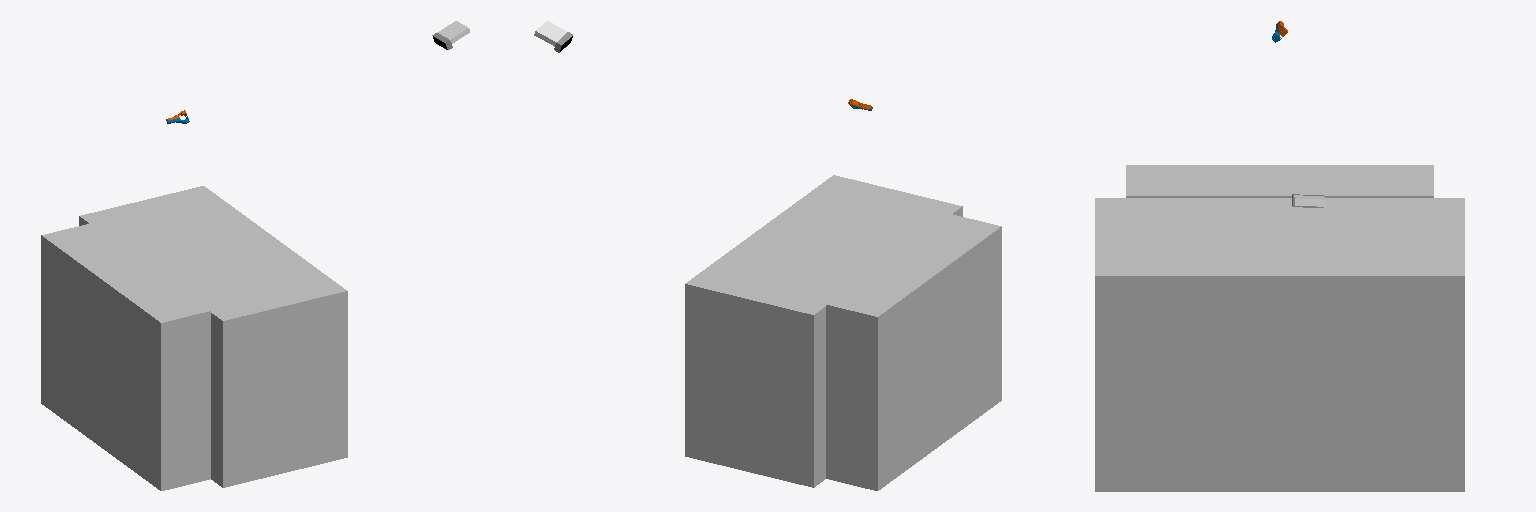
URDF robot description (panda):
<?xml version="1.0" ?>
<robot name="panda">
  <link name="world">
    <inertial>
      <mass value="1"/>
      <inertia ixx="0.04" ixy="0.0" ixz="0.0" iyy="0.04" iyz="0.0" izz="0.2"/>
    </inertial>
  </link>
  <link name="table">
    <visual>
      <geometry>
        <mesh filename="package://sapien_simulator/meshes/table/visual/table.dae"/>
      </geometry>
    </visual>
    <collision>
      <geometry>
        <mesh filename="package://sapien_simulator/meshes/table/collision/table.obj"/>
      </geometry>
    </collision>
  </link>
  <joint name="world_joint" type="fixed">
    <parent link="world"/>
    <child link="panda_link0"/>
    <origin xyz="-0.43 0.0 0.01" rpy="0.0 0.0 0.0"/>
  </joint>
  <joint name="table_joint" type="fixed">
    <parent link="world"/>
    <child link="table"/>
    <origin xyz="0.0 0.0 -0.39" rpy="0.0 0.0 0.0"/>
  </joint>

  <link name="panda_link0">
    <visual>
      <geometry>
        <mesh filename="package://sapien_simulator/meshes/visual/link0.dae"/>
      </geometry>
    </visual>
    <collision>
      <geometry>
        <mesh filename="package://sapien_simulator/meshes/collision/link0.stl"/>
      </geometry>
    </collision>
  </link>
  <link name="panda_link1">
    <visual>
      <geometry>
        <mesh filename="package://sapien_simulator/meshes/visual/link1.dae"/>
      </geometry>
    </visual>
    <collision>
      <geometry>
        <mesh filename="package://sapien_simulator/meshes/collision/link1.stl"/>
      </geometry>
    </collision>
  </link>
  <joint name="panda_joint1" type="revolute">
    <safety_controller k_position="100.0" k_velocity="40.0" soft_lower_limit="-2.8973" soft_upper_limit="2.8973"/>
    <origin rpy="0 0 0" xyz="0 0 0.333"/>
    <parent link="panda_link0"/>
    <child link="panda_link1"/>
    <axis xyz="0 0 1"/>
    <limit effort="87" lower="-2.8973" upper="2.8973" velocity="2.1750"/>
  </joint>
  <link name="panda_link2">
    <visual>
      <geometry>
        <mesh filename="package://sapien_simulator/meshes/visual/link2.dae"/>
      </geometry>
    </visual>
    <collision>
      <geometry>
        <mesh filename="package://sapien_simulator/meshes/collision/link2.stl"/>
      </geometry>
    </collision>
  </link>
  <joint name="panda_joint2" type="revolute">
    <safety_controller k_position="100.0" k_velocity="40.0" soft_lower_limit="-1.7628" soft_upper_limit="1.7628"/>
    <origin rpy="-1.5707963267948966 0 0" xyz="0 0 0"/>
    <parent link="panda_link1"/>
    <child link="panda_link2"/>
    <axis xyz="0 0 1"/>
    <limit effort="87" lower="-1.7628" upper="1.7628" velocity="2.1750"/>
  </joint>
  <link name="panda_link3">
    <visual>
      <geometry>
        <mesh filename="package://sapien_simulator/meshes/visual/link3.dae"/>
      </geometry>
    </visual>
    <collision>
      <geometry>
        <mesh filename="package://sapien_simulator/meshes/collision/link3.stl"/>
      </geometry>
    </collision>
  </link>
  <joint name="panda_joint3" type="revolute">
    <safety_controller k_position="100.0" k_velocity="40.0" soft_lower_limit="-2.8973" soft_upper_limit="2.8973"/>
    <origin rpy="1.5707963267948966 0 0" xyz="0 -0.316 0"/>
    <parent link="panda_link2"/>
    <child link="panda_link3"/>
    <axis xyz="0 0 1"/>
    <limit effort="87" lower="-2.8973" upper="2.8973" velocity="2.1750"/>
  </joint>
  <link name="panda_link4">
    <visual>
      <geometry>
        <mesh filename="package://sapien_simulator/meshes/visual/link4.dae"/>
      </geometry>
    </visual>
    <collision>
      <geometry>
        <mesh filename="package://sapien_simulator/meshes/collision/link4.stl"/>
      </geometry>
    </collision>
  </link>
  <joint name="panda_joint4" type="revolute">
    <safety_controller k_position="100.0" k_velocity="40.0" soft_lower_limit="-3.0718" soft_upper_limit="-0.0698"/>
    <origin rpy="1.5707963267948966 0 0" xyz="0.0825 0 0"/>
    <parent link="panda_link3"/>
    <child link="panda_link4"/>
    <axis xyz="0 0 1"/>
    <limit effort="87" lower="-3.0718" upper="-0.0698" velocity="2.1750"/>
  </joint>
  <link name="panda_link5">
    <visual>
      <geometry>
        <mesh filename="package://sapien_simulator/meshes/visual/link5.dae"/>
      </geometry>
    </visual>
    <collision>
      <geometry>
        <mesh filename="package://sapien_simulator/meshes/collision/link5.stl"/>
      </geometry>
    </collision>
  </link>
  <joint name="panda_joint5" type="revolute">
    <safety_controller k_position="100.0" k_velocity="40.0" soft_lower_limit="-2.8973" soft_upper_limit="2.8973"/>
    <origin rpy="-1.5707963267948966 0 0" xyz="-0.0825 0.384 0"/>
    <parent link="panda_link4"/>
    <child link="panda_link5"/>
    <axis xyz="0 0 1"/>
    <limit effort="12" lower="-2.8973" upper="2.8973" velocity="2.6100"/>
  </joint>
  <link name="panda_link6">
    <visual>
      <geometry>
        <mesh filename="package://sapien_simulator/meshes/visual/link6.dae"/>
      </geometry>
    </visual>
    <collision>
      <geometry>
        <mesh filename="package://sapien_simulator/meshes/collision/link6.stl"/>
      </geometry>
    </collision>
  </link>
  <joint name="panda_joint6" type="revolute">
    <safety_controller k_position="100.0" k_velocity="40.0" soft_lower_limit="-0.0175" soft_upper_limit="3.7525"/>
    <origin rpy="1.5707963267948966 0 0" xyz="0 0 0"/>
    <parent link="panda_link5"/>
    <child link="panda_link6"/>
    <axis xyz="0 0 1"/>
    <limit effort="12" lower="-0.0175" upper="3.7525" velocity="2.6100"/>
  </joint>
  <link name="panda_link7">
    <visual>
      <geometry>
        <mesh filename="package://sapien_simulator/meshes/visual/link7.dae"/>
      </geometry>
    </visual>
    <collision>
      <geometry>
        <mesh filename="package://sapien_simulator/meshes/collision/link7.stl"/>
      </geometry>
    </collision>
  </link>
  <joint name="panda_joint7" type="revolute">
    <safety_controller k_position="100.0" k_velocity="40.0" soft_lower_limit="-2.8973" soft_upper_limit="2.8973"/>
    <origin rpy="1.5707963267948966 0 0" xyz="0.088 0 0"/>
    <parent link="panda_link6"/>
    <child link="panda_link7"/>
    <axis xyz="0 0 1"/>
    <limit effort="12" lower="-2.8973" upper="2.8973" velocity="2.6100"/>
  </joint>
  <link name="panda_link8"/>
  <joint name="panda_joint8" type="fixed">
    <origin rpy="0 0 0" xyz="0 0 0.107"/>
    <parent link="panda_link7"/>
    <child link="panda_link8"/>
    <axis xyz="0 0 0"/>
  </joint>
  <joint name="panda_hand_joint" type="fixed">
    <parent link="panda_link8"/>
    <child link="panda_hand"/>
    <origin rpy="0 0 -0.7853981633974483" xyz="0 0 0"/>
  </joint>
  <link name="panda_hand">
    <visual>
      <geometry>
        <mesh filename="package://sapien_simulator/meshes/visual/hand.dae"/>
      </geometry>
    </visual>
    <collision>
      <geometry>
        <mesh filename="package://sapien_simulator/meshes/collision/hand.stl"/>
      </geometry>
    </collision>
  </link>
  <link name="panda_leftfinger">
    <visual>
      <geometry>
        <mesh filename="package://sapien_simulator/meshes/visual/finger.dae"/>
      </geometry>
    </visual>
    <collision>
      <geometry>
        <mesh filename="package://sapien_simulator/meshes/visual/finger.dae"/>
      </geometry>
    </collision>
  </link>
  <link name="panda_rightfinger">
    <visual>
      <origin rpy="0 0 3.141592653589793" xyz="0 0 0"/>
      <geometry>
        <mesh filename="package://sapien_simulator/meshes/visual/finger.dae"/>
      </geometry>
    </visual>
    <collision>
      <origin rpy="0 0 3.141592653589793" xyz="0 0 0"/>
      <geometry>
        <mesh filename="package://sapien_simulator/meshes/visual/finger.dae"/>
      </geometry>
    </collision>
  </link>
  <joint name="panda_finger_joint1" type="prismatic">
    <parent link="panda_hand"/>
    <child link="panda_leftfinger"/>
    <origin rpy="0 0 0" xyz="0 0 0.0584"/>
    <axis xyz="0 1 0"/>
    <limit effort="20" lower="0.0" upper="0.04" velocity="0.2"/>
  </joint>
  <joint name="panda_finger_joint2" type="prismatic">
    <parent link="panda_hand"/>
    <child link="panda_rightfinger"/>
    <origin rpy="0 0 0" xyz="0 0 0.0584"/>
    <axis xyz="0 -1 0"/>
    <limit effort="20" lower="0.0" upper="0.04" velocity="0.2"/>
    <mimic joint="panda_finger_joint1"/>
  </joint>
  <link name="panda_ee_link"></link>
  <joint name="panda_ee_link_joint" type="fixed">
    <origin rpy="0.0 0.0 -0.785" xyz="0.0 0.0 0.15"/>
    <parent link="panda_link8"/>
    <child link="panda_ee_link"/>
  </joint>

  <!--  kinect -->
  <material name="black">
    <color rgba="0. 0. 0. 1"/>
  </material>
  <material name="dark_grey">
    <color rgba="0.1 0.1 0.1 1"/>
  </material>
  <material name="grey">
    <color rgba="0.6 0.6 0.6 1"/>
  </material>
  <material name="white">
    <color rgba="0.9 0.9 0.9 1"/>
  </material>
  <link name="kinect_body">
    <visual>
      <origin xyz="0. 0. 0."/>
      <geometry>
        <box size="0.0994 0.0996 0.023"/>
      </geometry>
      <material name="white"/>
    </visual>
  </link>
  <link name="kinect_base">
    <visual>
      <origin xyz="-0.013 0. 0."/>
      <geometry>
        <box size="0.026 0.103 0.039"/>
      </geometry>
      <material name="grey"/>
    </visual>
  </link>
  <link name="kinect_visor">
    <visual>
      <origin xyz="-0.0128 0. 0."/>
      <geometry>
        <box size="0.026 0.101 0.037"/>
      </geometry>
      <material name="black"/>
    </visual>
  </link>
  <joint name="kinect_base_to_body" type="fixed">
    <parent link="kinect_base"/>
    <child link="kinect_body"/>
    <origin rpy="0. 0. 0." xyz="-0.0757 0. 0.008"/>
  </joint>
  <joint name="kinect_base_to_visor" type="fixed">
    <parent link="kinect_base"/>
    <child link="kinect_visor"/>
    <origin rpy="0. 0. 0." xyz="0. 0. 0."/>
  </joint>
  <joint name="kinect__visor_to_depth" type="fixed">
    <parent link="kinect_visor"/>
    <child link="depth_camera_link"/>
    <origin rpy="-1.57 0. -1.57" xyz="0. 0. 0."/>
  </joint>
  <link name="rgb_camera_link"/>
  <link name="depth_camera_link"/>
  <joint name="depth_to_rgb" type="fixed">
    <parent link="depth_camera_link"/>
    <child link="rgb_camera_link"/>
    <origin rpy="0. 0. 0." xyz="0. 0. 0."/>
  </joint>
  <joint name="base_kinect_joint" type="fixed">
    <parent link="panda_link0"/>
    <child link="kinect_base"/>
    <origin rpy="0.05807847712353446 0.32117765639844126 -3.083483219329227"
            xyz="1.5751255618818367 0.09100056881597385 0.6486937792679903"/>
  </joint>
  <gazebo reference="kinect_visor">
    <sensor type="depth" name="kinect">
      <camera>
        <horizontal_fov>1.2108</horizontal_fov>
        <image>
          <width>1280</width>
          <height>720</height>
        </image>
        <clip>
          <near>0.01</near>
          <far>100</far>
        </clip>
      </camera>
    </sensor>
  </gazebo>

  <material name="aluminum">
    <color rgba="0.5 0.5 0.5 1"/>
  </material>
  <material name="plastic">
    <color rgba="0.1 0.1 0.1 1"/>
  </material>
  <joint name="realsense_link_joint" type="fixed">
    <origin rpy="-0.3482024436481727 -1.563844186046295 2.713723394878007"
            xyz="0.022938977261424617 -0.04925718426893216 0.05882856047291339"/>
    <parent link="panda_link8"/>
    <child link="realsense_link"/>
  </joint>
  <link name="realsense_link">
    <visual>
      <!-- the mesh origin is at front plate in between the two infrared realsense axes -->
      <origin rpy="1.5707963267948966 0 1.5707963267948966" xyz="0.0043 -0.0175 0"/>
      <geometry>
        <mesh filename="package://realsense2_description/meshes/d435.dae"/>
      </geometry>
    </visual>
    <collision>
      <origin rpy="0 0 0" xyz="0 -0.0175 0"/>
      <geometry>
        <box size="0.02505 0.09 0.025"/>
      </geometry>
    </collision>
    <inertial>
      <!-- The following are not reliable values, and should not be used for modeling -->
      <mass value="0.072"/>
      <origin xyz="0 0 0"/>
      <inertia ixx="0.003881243" ixy="0.0" ixz="0.0" iyy="0.000498940" iyz="0.0" izz="0.003879257"/>
    </inertial>
  </link>
  <!-- realsense depth joints and links -->
  <joint name="realsense_depth_joint" type="fixed">
    <origin rpy="0 0 0" xyz="0 0 0"/>
    <parent link="realsense_link"/>
    <child link="realsense_depth_frame"/>
  </joint>
  <link name="realsense_depth_frame"/>
  <joint name="realsense_depth_optical_joint" type="fixed">
    <origin rpy="-1.5707963267948966 0 -1.5707963267948966" xyz="0 0 0"/>
    <parent link="realsense_depth_frame"/>
    <child link="realsense_depth_optical_frame"/>
  </joint>
  <link name="realsense_depth_optical_frame"/>
  <!-- realsense color joints and links -->
  <joint name="realsense_color_joint" type="fixed">
    <origin rpy="0 0 0" xyz="0 0 0"/>
    <parent link="realsense_link"/>
    <child link="realsense_color_frame"/>
  </joint>
  <link name="realsense_color_frame"/>
  <joint name="realsense_color_optical_joint" type="fixed">
    <origin rpy="-1.5707963267948966 0 -1.5707963267948966" xyz="0 0 0"/>
    <parent link="realsense_color_frame"/>
    <child link="realsense_color_optical_frame"/>
  </joint>
  <link name="realsense_color_optical_frame"/>
  <gazebo reference="realsense_depth_frame">
    <sensor type="depth" name="realsense">
      <camera>
        <horizontal_fov>1.2108</horizontal_fov>
        <image>
          <width>1280</width>
          <height>720</height>
        </image>
        <clip>
          <near>0.01</near>
          <far>100</far>
        </clip>
      </camera>
    </sensor>
  </gazebo>
</robot>

--- Facts derived from the render (not from the file) ---
The picture shows the robot from 3 angles, left to right: view 1: azimuth 30°, elevation 25°; view 2: azimuth 150°, elevation 25°; view 3: azimuth 270°, elevation 25°; orthographic projection.
Model panda with 25 links and 24 joints (7 revolute, 2 prismatic, 15 fixed), rooted at world, posed all joints at 0 but 1 set to mid-range because 0 is outside their limits (panda_joint4 = -1.57).
Links seen in each view (by area): view 1: table; view 2: table; view 3: table.
Boxes of the visible links, x1,y1,x2,y2 form: table: (41,186,347,490); table: (685,175,1001,490); table: (1095,165,1464,491).
Size in the robot's own frame: 1.81 by 1.2 by 1.49 metres.
3 mesh visuals loaded from 12 distinct referenced files (2 Collada DAE); not drawn: 10 (reference not matched to a file when rendering).